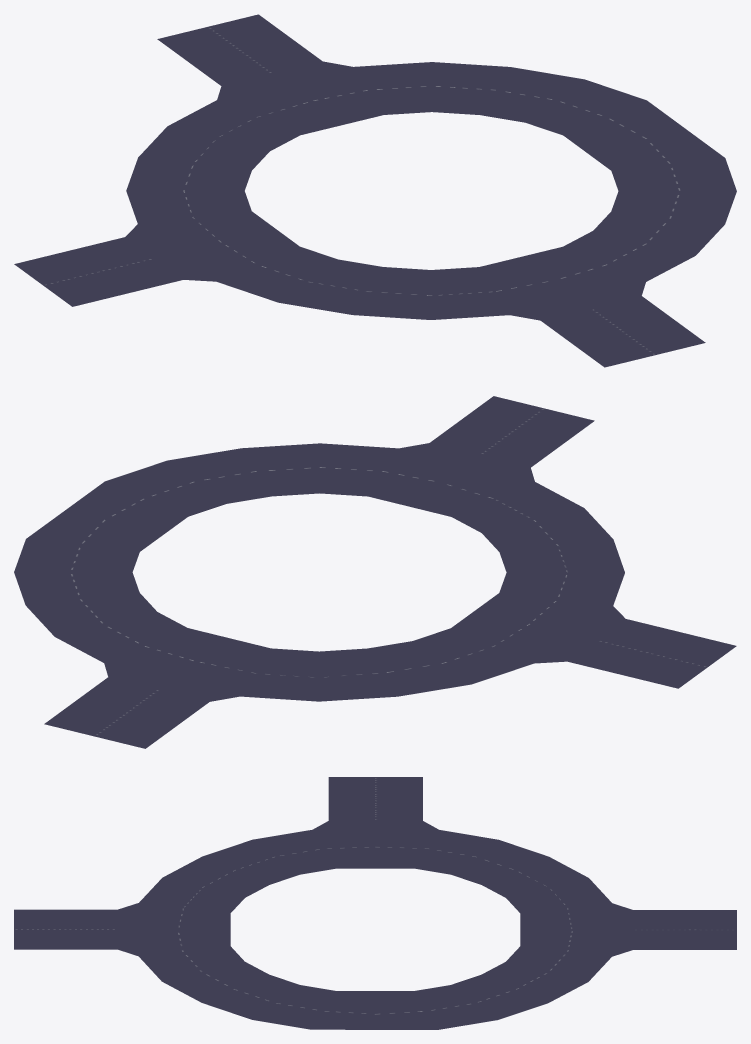
The picture shows the model from 3 angles, top to bottom: view 1: azimuth 30°, elevation 25°; view 2: azimuth 150°, elevation 25°; view 3: azimuth 270°, elevation 25°; orthographic projection. The views are drawn at different scales.
Parts seen in each view (by area): view 1: Circle_1.003; view 2: Circle_1.003; view 3: Circle_1.003.
Part boxes in pixels (x1,y1,x2,y2): Circle_1.003: (14, 14, 736, 367); Circle_1.003: (14, 396, 736, 748); Circle_1.003: (14, 777, 736, 1029).
Bounding box in the file's own units: 126 × 0.00804 × 152.
